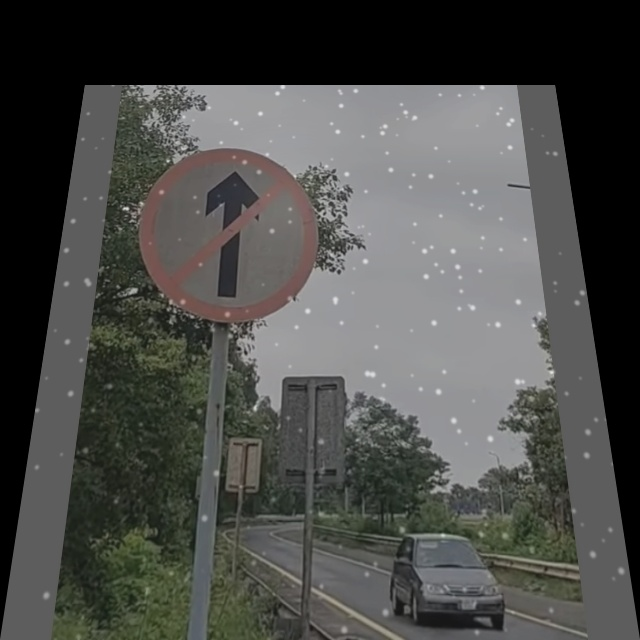No_Entry: (133, 149, 319, 323)
